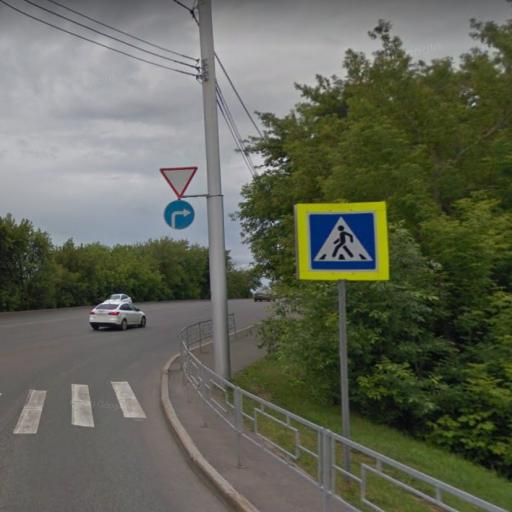traffic_sign: (295, 199, 393, 284), (159, 164, 202, 204)
